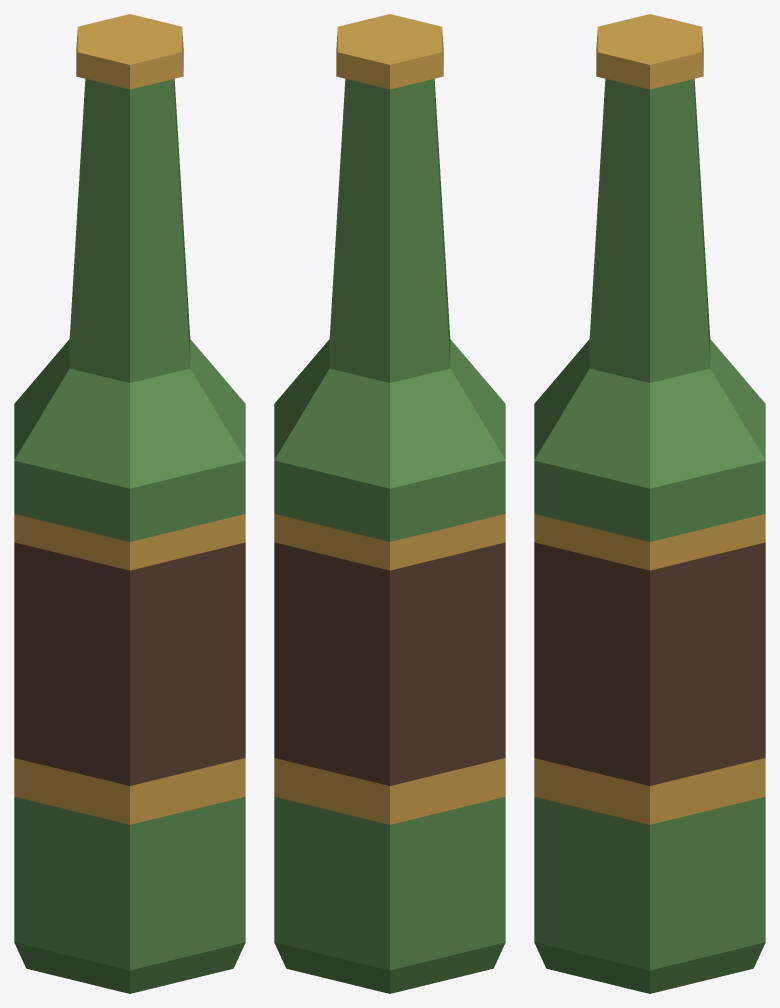
The model's file is SM_Prop_Sign_Bottle_01.fbx.
3 renders of one model, left to right at view 1: azimuth 30°, elevation 25°; view 2: azimuth 150°, elevation 25°; view 3: azimuth 270°, elevation 25°, orthographic.
Visible parts, largest first — view 1: SM_Prop_Sign_Bottle_01; view 2: SM_Prop_Sign_Bottle_01; view 3: SM_Prop_Sign_Bottle_01.
Boxes of the visible parts, <box> form: SM_Prop_Sign_Bottle_01: <box>14,14,245,993</box>; SM_Prop_Sign_Bottle_01: <box>274,14,505,993</box>; SM_Prop_Sign_Bottle_01: <box>534,14,765,993</box>.
Bounding box in the file's own units: 32.87 × 123 × 28.47.
